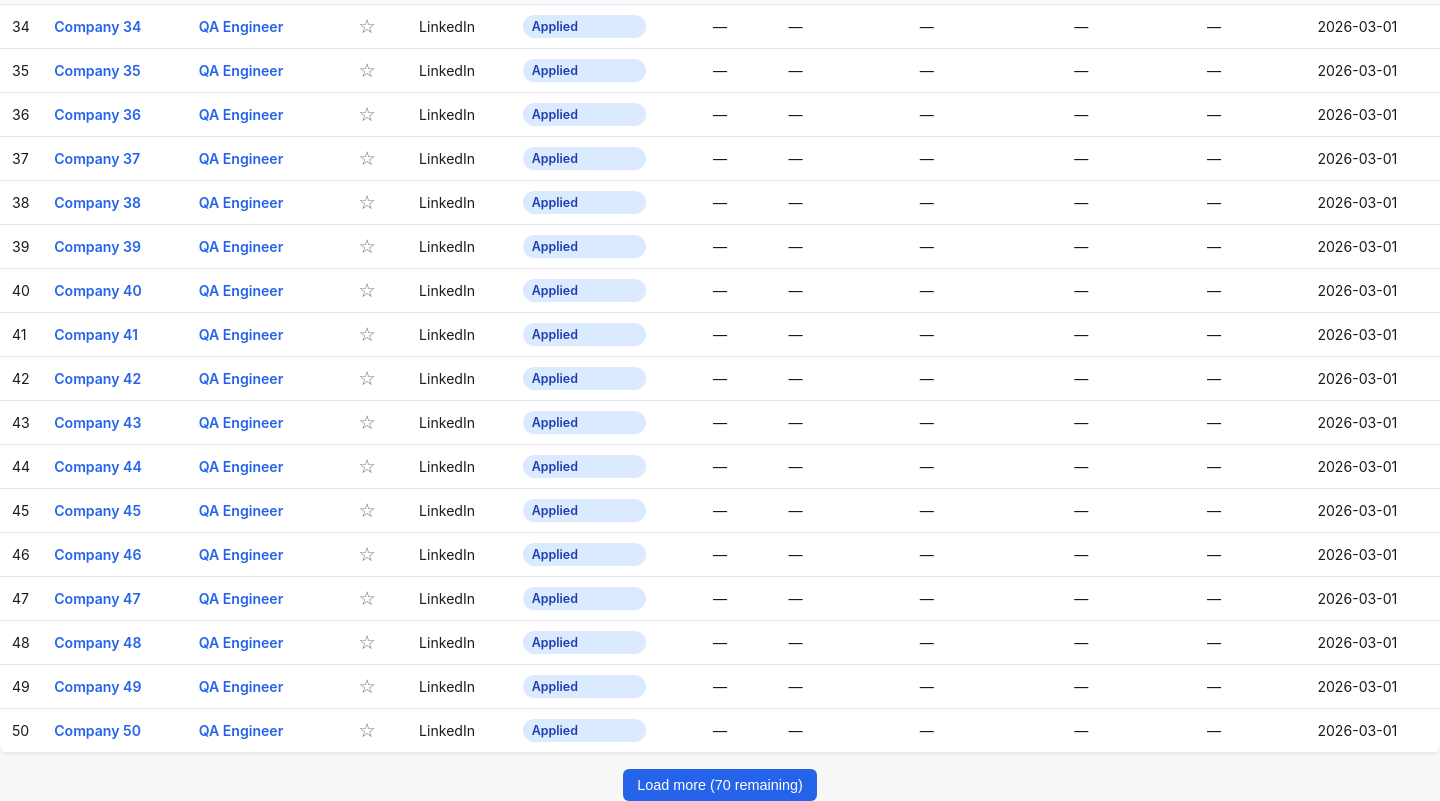
ListPage › pagination › appends the next page instead of replacing
The width and height of the screenshot is (1440, 801).
(page scrolled)
Click the button "Load more (70 remaining)" at (720, 785), box x1=623 y1=769 x2=817 y2=800
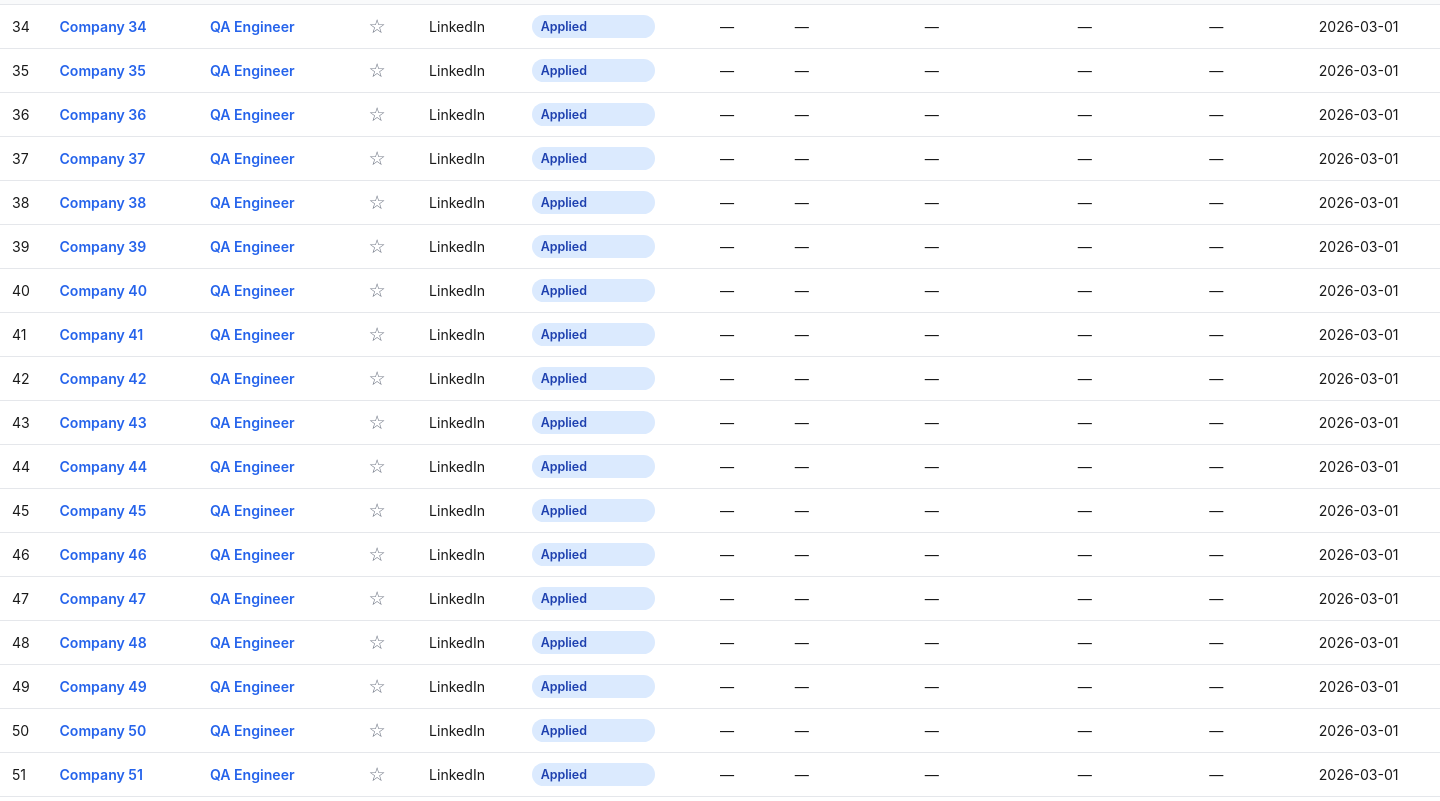
Now the link "Company 51" is shown, box x1=60 y1=766 x2=143 y2=783
